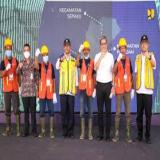Helmet: (118, 36, 128, 49), (4, 38, 13, 48), (41, 45, 49, 55), (82, 40, 90, 50)
Vest: (136, 54, 155, 93), (60, 54, 76, 97), (40, 63, 56, 103), (115, 58, 132, 93), (80, 57, 94, 99), (3, 58, 19, 94)
